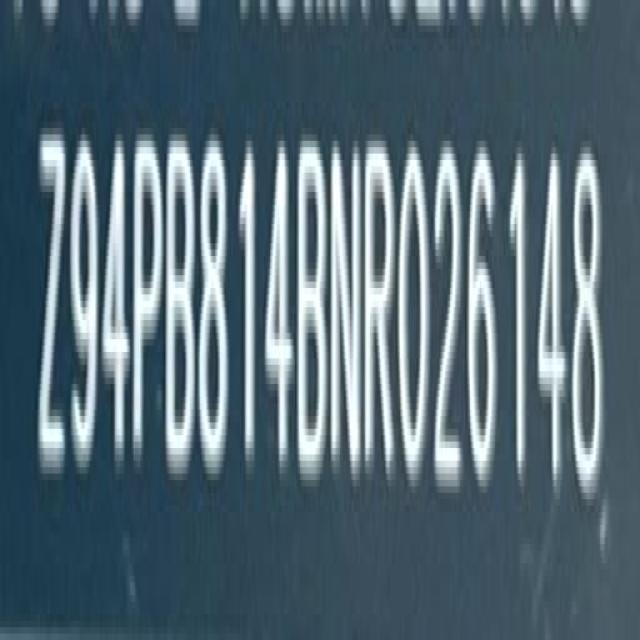0: (399, 142, 432, 494)
1: (235, 135, 258, 483), (510, 146, 530, 499)
2: (432, 143, 465, 499)
4: (538, 149, 570, 503), (264, 135, 295, 482), (102, 133, 132, 478)
6: (466, 139, 499, 496)
8: (572, 151, 604, 498), (200, 134, 230, 481)
9: (69, 134, 98, 482)
B: (165, 129, 197, 480), (298, 137, 330, 480)
N: (332, 137, 366, 483)
P: (133, 131, 163, 476)
R: (364, 138, 398, 484)
Z: (40, 130, 68, 487)
